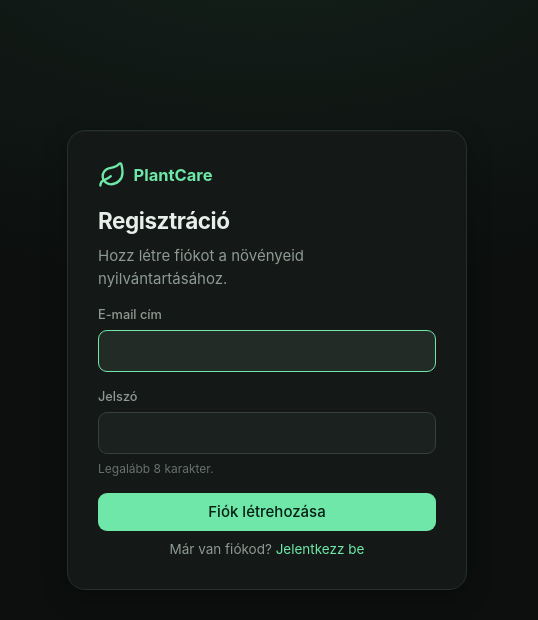
Test: AuthPage (AC1) › shows field errors returned for invalid registration data
Type "nem-email" into the field labelled "E-mail cím" at (267, 351), box [98,330,436,372]
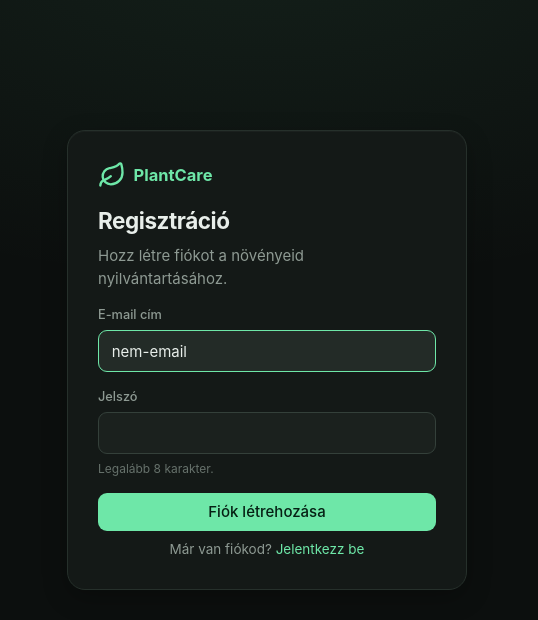
Type "rovid" into the password field labelled "Jelszó" at (267, 433), box [98,412,436,454]
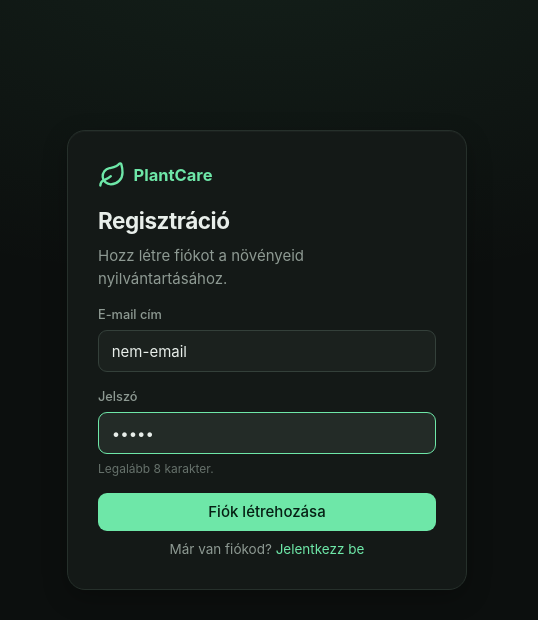
Click the button "Fiók létrehozása" at (267, 512), box [98,493,436,531]
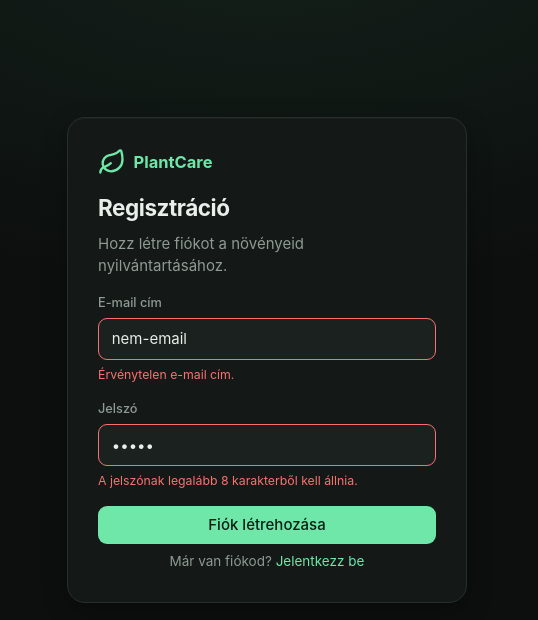
Expected: the text "Érvénytelen e-mail cím." is shown, [98,367,234,382]
Expected: the text "A jelszónak legalább 8 karakterből kell állnia." is shown, [98,473,358,488]
